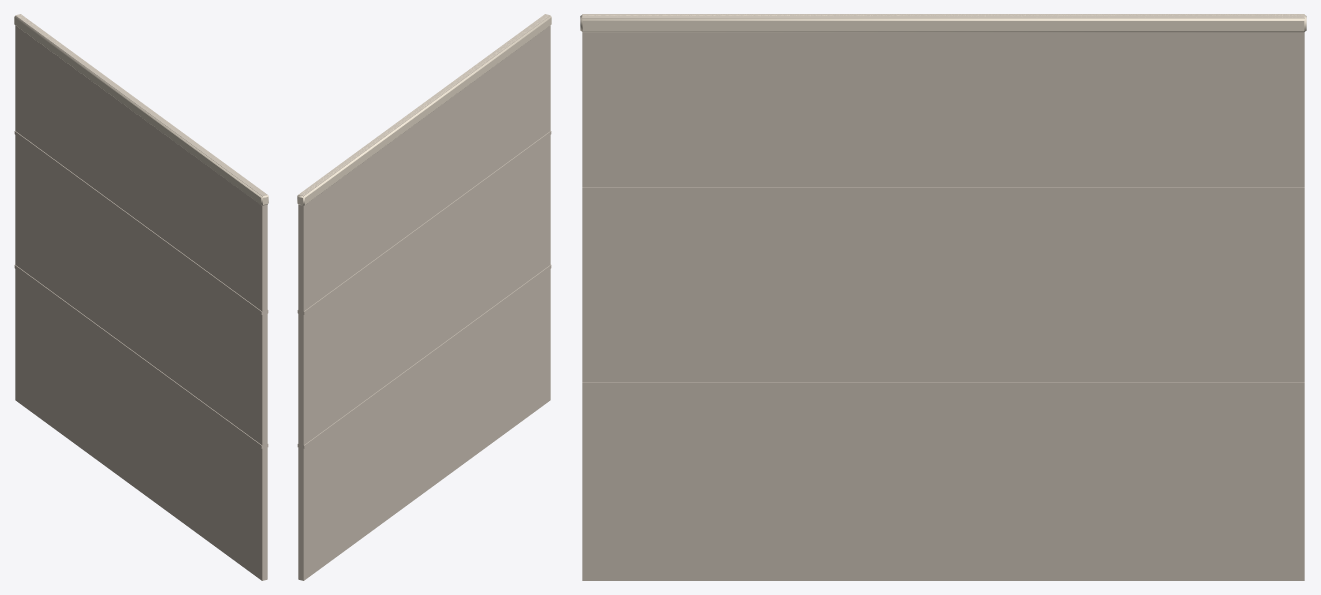
Rendered from medianera_b.fbx.
3 renders of one model, left to right at view 1: azimuth 30°, elevation 25°; view 2: azimuth 150°, elevation 25°; view 3: azimuth 270°, elevation 25°, orthographic. The views are drawn at different scales.
Parts seen in each view (by area): view 1: medianera_b; view 2: medianera_b; view 3: medianera_b.
Part boxes in pixels (x1,y1,x2,y2): medianera_b: (14, 14, 268, 580); medianera_b: (297, 14, 551, 580); medianera_b: (580, 14, 1306, 580).
Size of the model in its own units: 0.2 by 9.2 by 10.76.
